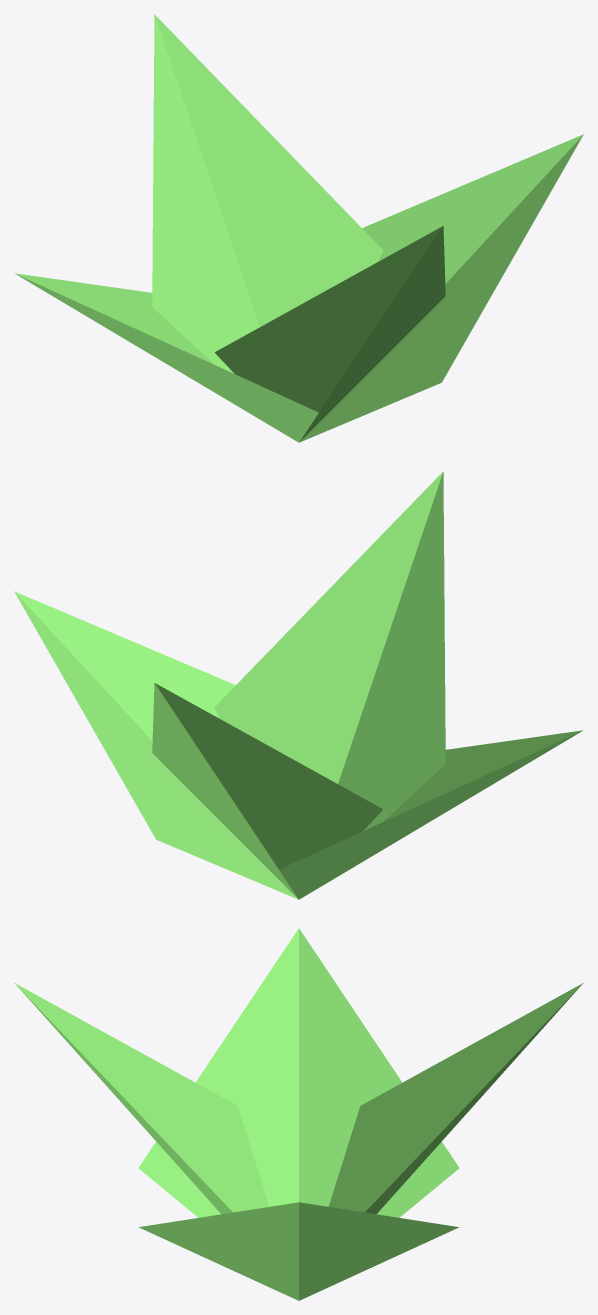
Rendered from plant_bushSmall.glb.
3 renders of one model, top to bottom at view 1: azimuth 30°, elevation 25°; view 2: azimuth 150°, elevation 25°; view 3: azimuth 270°, elevation 25°, orthographic.
Visible parts, largest first — view 1: plant_bushSmall; view 2: plant_bushSmall; view 3: plant_bushSmall.
Boxes of the visible parts, bbox=[...] form: plant_bushSmall: bbox=[15, 14, 583, 442]; plant_bushSmall: bbox=[14, 471, 582, 899]; plant_bushSmall: bbox=[14, 928, 583, 1300].
Size of the model in its own units: 0.383 by 0.2073 by 0.3363.
